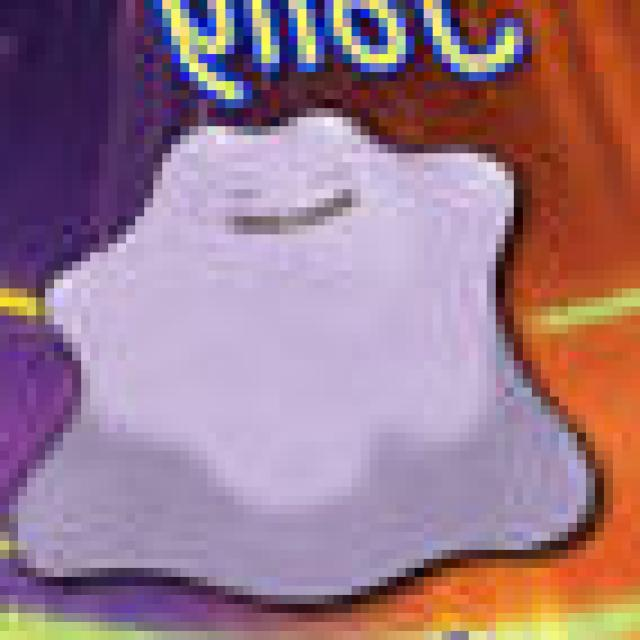Ditto: (10, 108, 592, 595)
